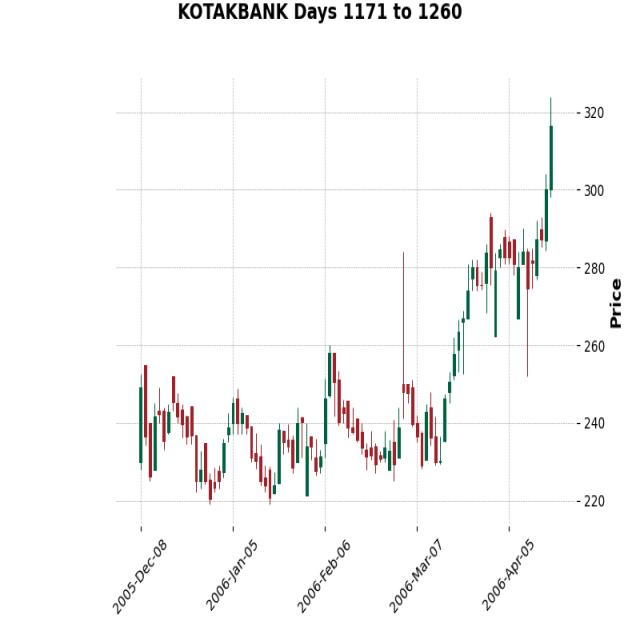Descending Triangle: (302, 315, 398, 510)
